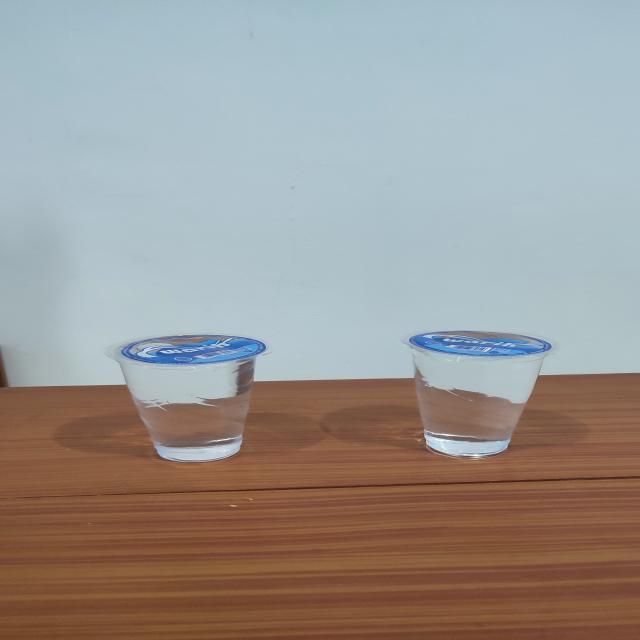air gelas: (95, 329, 276, 472), (390, 324, 563, 470)
